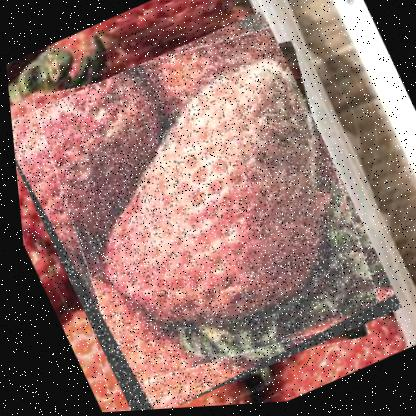strawberry_rotten: (2, 7, 403, 415)
